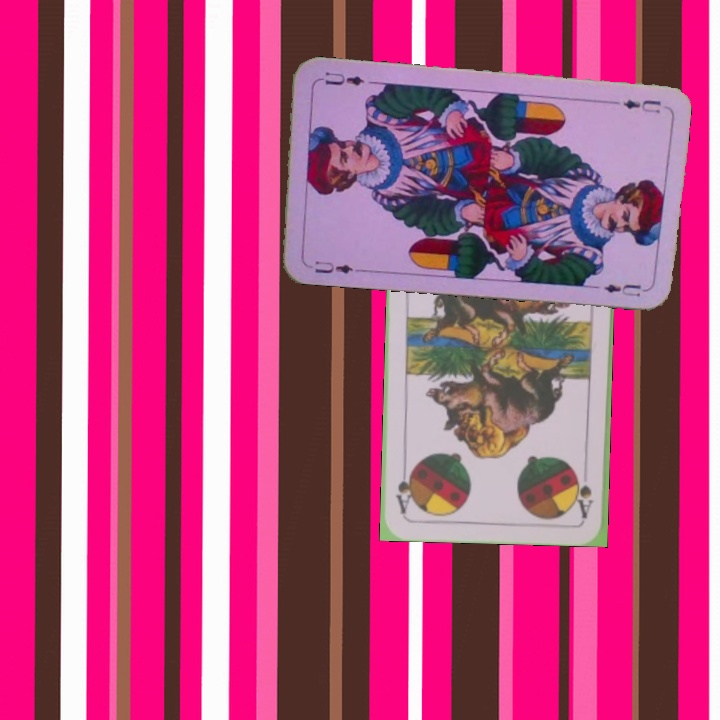EU: (302, 256, 361, 276), (619, 95, 664, 116)
SA: (573, 471, 596, 520)
